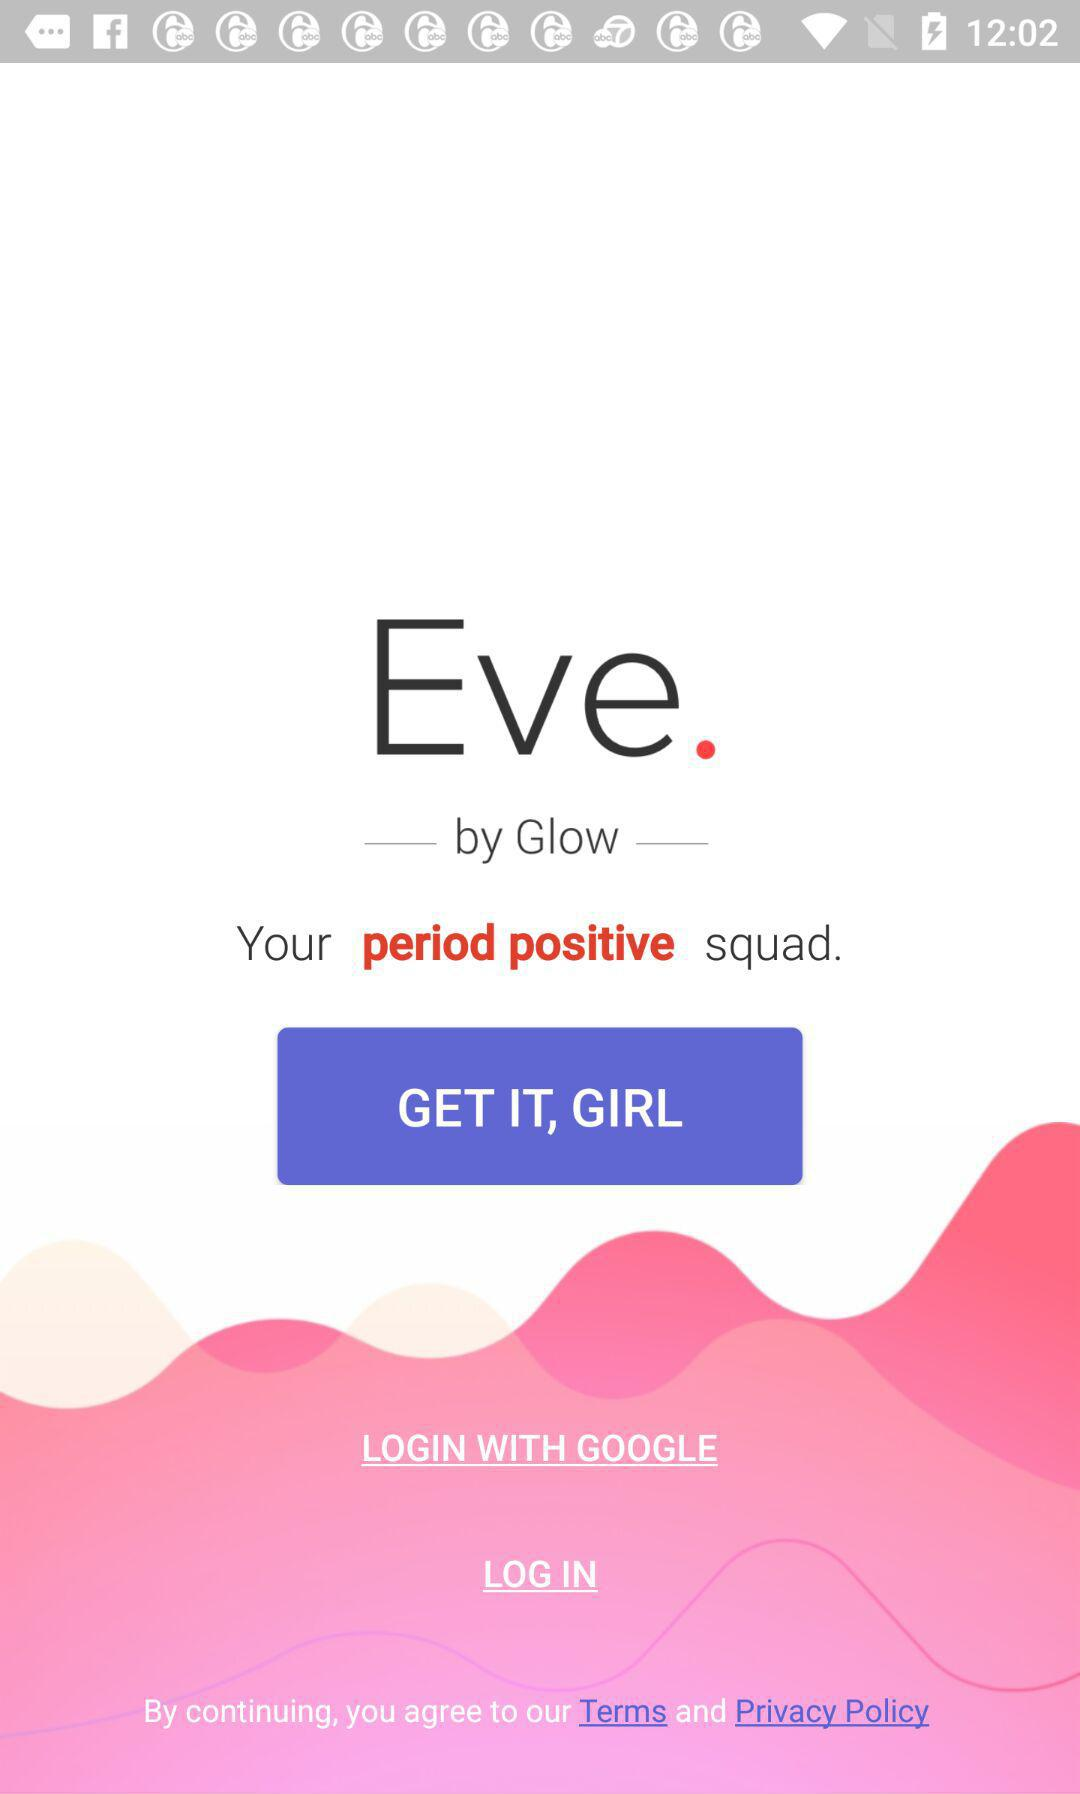Text: (375, 618, 719, 761), (236, 923, 840, 973), (145, 1697, 930, 1730), (360, 1433, 719, 1469), (456, 816, 620, 866), (483, 1559, 600, 1593)
TextButton: (277, 1026, 805, 1187)
UpperTaskBar: (1, 1, 1080, 64)
